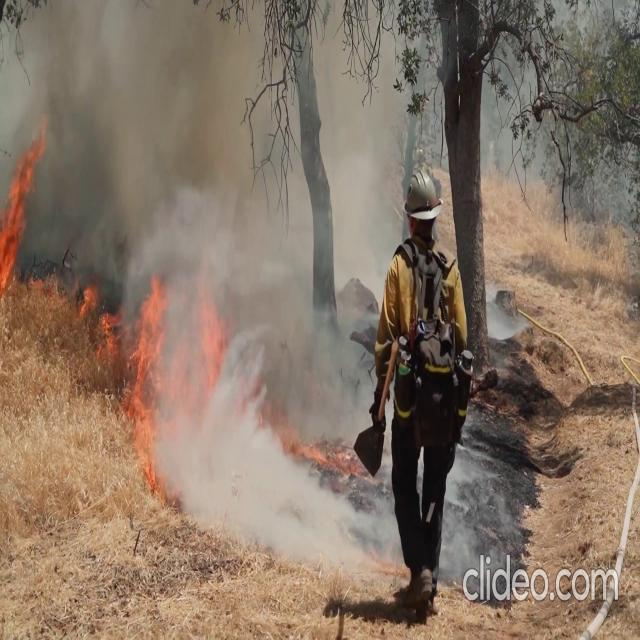Fire: (118, 270, 174, 490), (0, 128, 41, 310)
Smoke: (11, 6, 378, 565), (7, 2, 245, 272)
